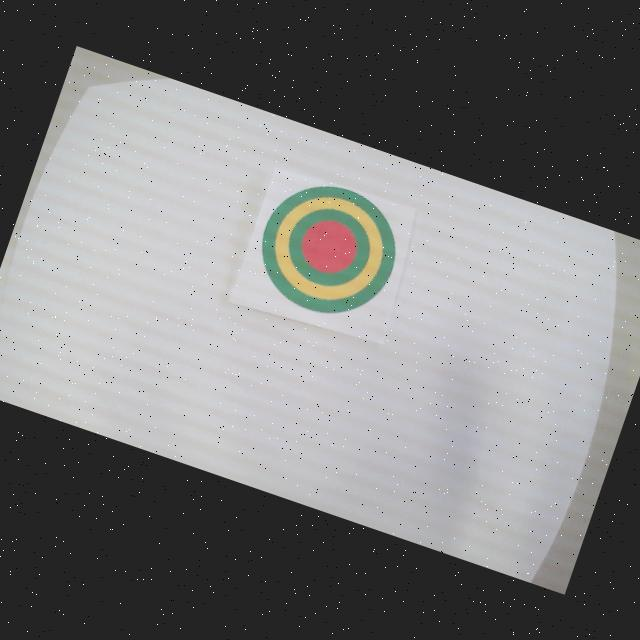COGNITIVE: (245, 167, 412, 331)
